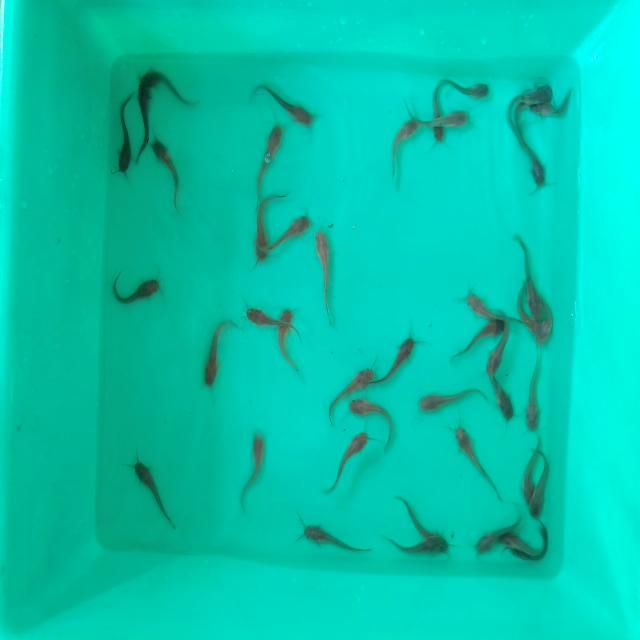lele: (129, 455, 173, 526), (254, 86, 314, 134), (302, 522, 374, 559), (454, 426, 494, 490), (312, 226, 338, 322), (150, 141, 184, 214), (330, 429, 371, 489), (140, 68, 206, 105), (201, 317, 234, 389), (398, 494, 451, 537), (242, 427, 269, 510), (276, 302, 302, 379), (418, 385, 486, 414), (386, 536, 456, 564), (254, 122, 281, 192), (464, 284, 516, 320), (349, 396, 397, 434), (271, 208, 312, 252), (452, 320, 502, 356), (505, 100, 536, 157), (519, 243, 543, 314), (378, 336, 415, 382), (329, 362, 378, 396), (108, 278, 165, 307), (392, 119, 416, 187), (490, 369, 514, 428), (484, 331, 516, 375), (238, 302, 281, 334), (526, 138, 550, 194), (136, 82, 152, 164), (256, 195, 274, 267), (515, 73, 557, 103), (419, 108, 476, 130), (523, 440, 541, 504), (116, 96, 131, 172), (525, 357, 540, 430), (472, 516, 506, 548), (502, 525, 551, 547), (427, 84, 443, 148), (530, 464, 550, 513), (536, 95, 578, 118), (452, 78, 491, 99), (510, 543, 552, 561), (512, 283, 530, 324), (534, 311, 554, 344)
